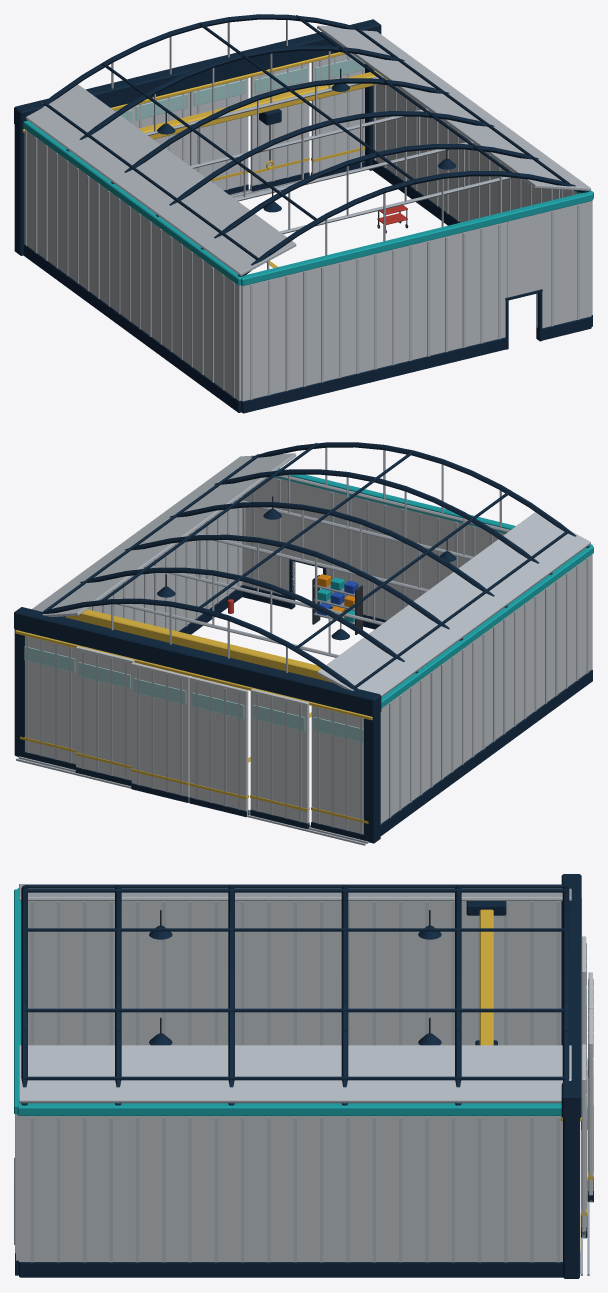
File: skyport-hangar.glb
The picture shows the model from 3 angles, top to bottom: view 1: azimuth 30°, elevation 25°; view 2: azimuth 150°, elevation 25°; view 3: azimuth 270°, elevation 25°; orthographic projection. The views are drawn at different scales.
Parts seen in each view (by area): view 1: sp_hangar_mesh, sp_hangar_doorr1_mesh, sp_hangar_doorr2_mesh, sp_hangar_doorr0_mesh, sp_hangar_crane_mesh, sp_hangar_doorl2_mesh; view 2: sp_hangar_mesh, sp_hangar_doorl2_mesh, sp_hangar_doorl1_mesh, sp_hangar_doorr2_mesh, sp_hangar_doorr1_mesh, sp_hangar_doorl0_mesh, sp_hangar_doorr0_mesh, sp_hangar_crane_mesh; view 3: sp_hangar_mesh, sp_hangar_crane_mesh, sp_hangar_doorr2_mesh, sp_hangar_doorr1_mesh, sp_hangar_doorl1_mesh.
Boxes of the visible parts, x1,y1,x2,y2 form: sp_hangar_mesh: (14, 14, 593, 413); sp_hangar_doorr1_mesh: (250, 63, 309, 191); sp_hangar_doorr2_mesh: (190, 78, 248, 194); sp_hangar_doorr0_mesh: (311, 53, 365, 178); sp_hangar_crane_mesh: (139, 71, 386, 139); sp_hangar_doorl2_mesh: (134, 92, 189, 165); sp_hangar_mesh: (14, 442, 593, 845); sp_hangar_doorl2_mesh: (189, 676, 248, 816); sp_hangar_doorl1_mesh: (250, 688, 309, 829); sp_hangar_doorr2_mesh: (131, 662, 189, 802); sp_hangar_doorr1_mesh: (75, 646, 134, 785); sp_hangar_doorl0_mesh: (311, 706, 368, 841); sp_hangar_doorr0_mesh: (20, 636, 75, 769); sp_hangar_crane_mesh: (63, 609, 333, 682); sp_hangar_mesh: (14, 874, 589, 1278); sp_hangar_crane_mesh: (466, 901, 506, 1045); sp_hangar_doorr2_mesh: (587, 1008, 593, 1202); sp_hangar_doorr1_mesh: (581, 1044, 587, 1238); sp_hangar_doorl1_mesh: (581, 936, 587, 1129).
Bounding box in the file's own units: 18.6 × 9.39 × 20.47.
